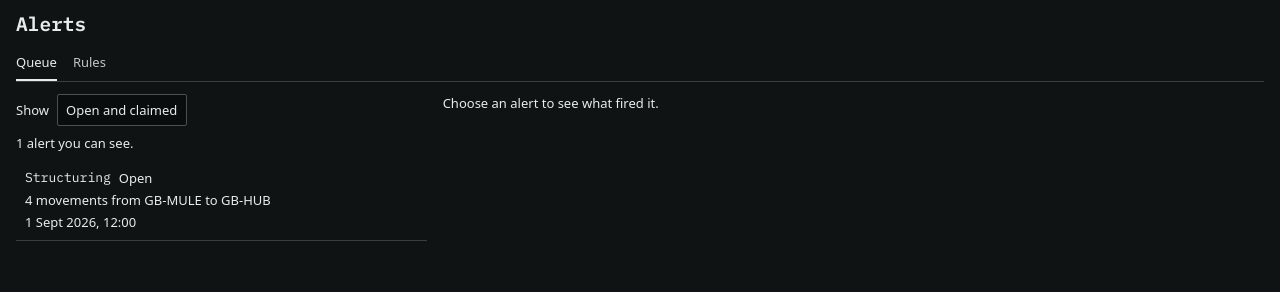
it: the Alerts place › lists the queue by name and explains an alert with its transactions
What coordinates should you click on to do the following:
click the button with aria-label "Open alert: Structuring — 4 movements from GB-MULE to GB-HUB"
I would click on:
 (221, 200)
Its box is [16,160,427,240].
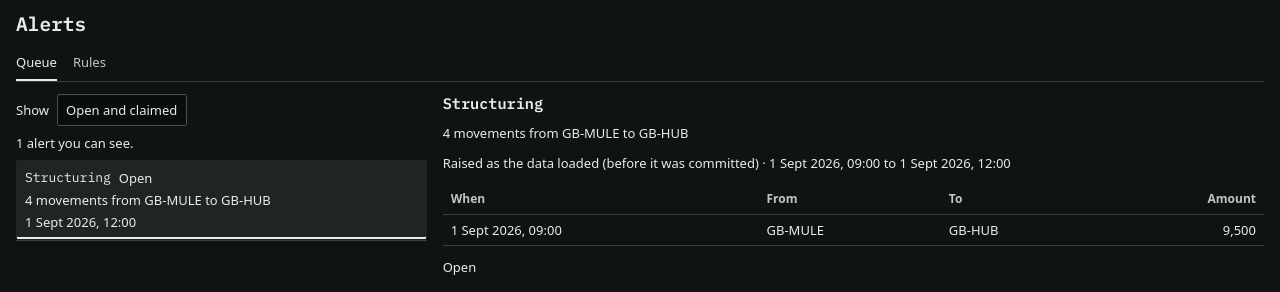
Now the table named "Transactions this alert cites" is shown, box [443,184,1264,246]
Now the text "9,500" is shown, box [1104,214,1264,246]
Now the text "GB-MULE" is shown, box [758,214,941,246]
